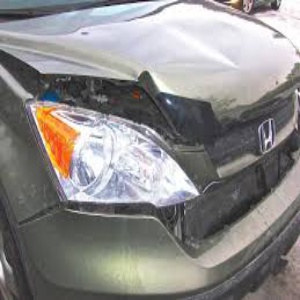bumper: (15, 208, 191, 291)
